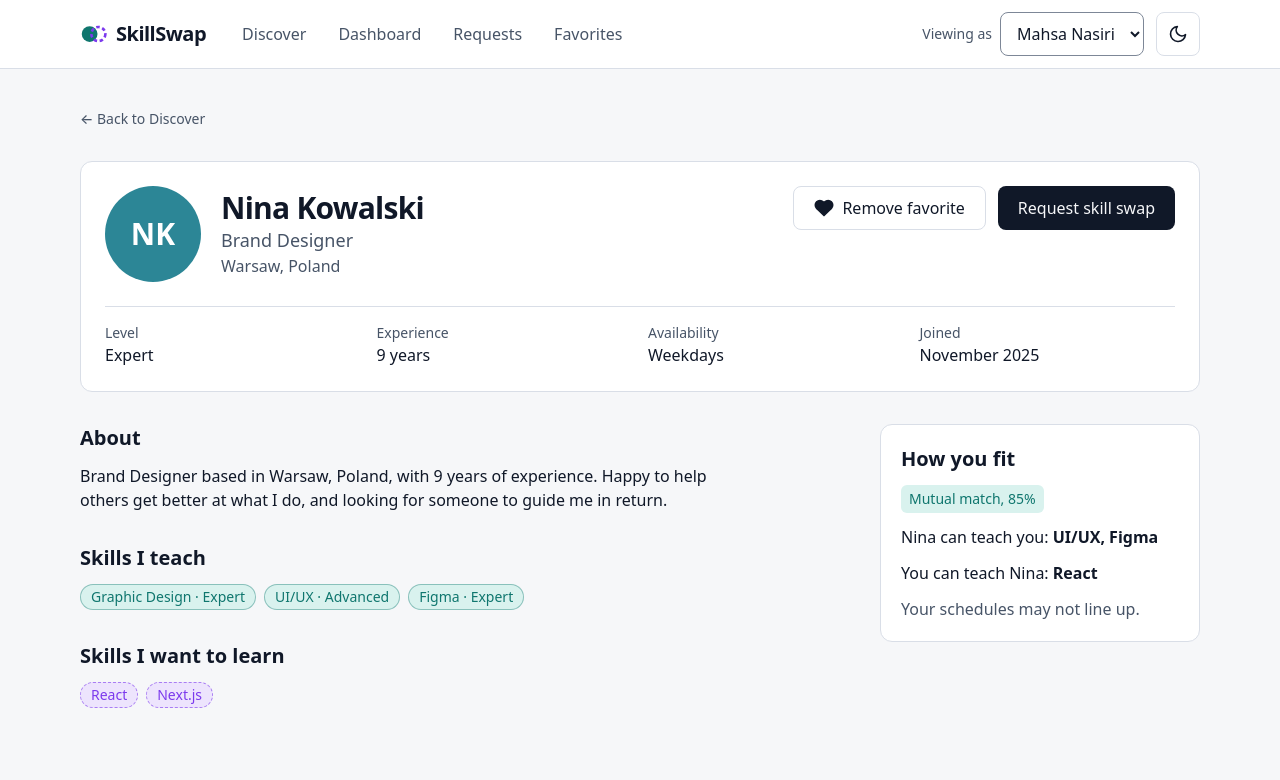
Test: audit: profile with the request form open and errors showing › has exactly one main area, one h1 and a working skip link
The width and height of the screenshot is (1280, 780).
Click the button "Request skill swap": [1086, 208] box [998,186,1175,230]
(page scrolled)
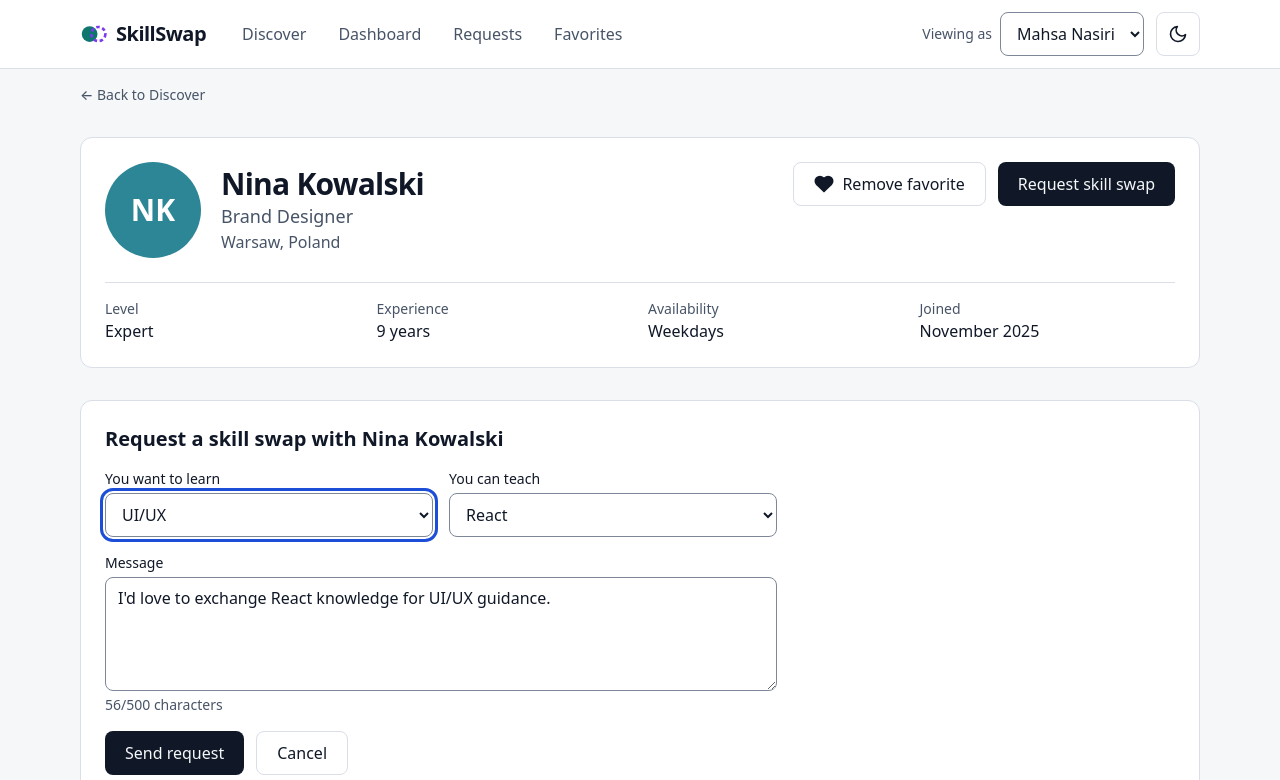
Clear the text box labelled "Message": [441, 634] box [105,577,777,691]
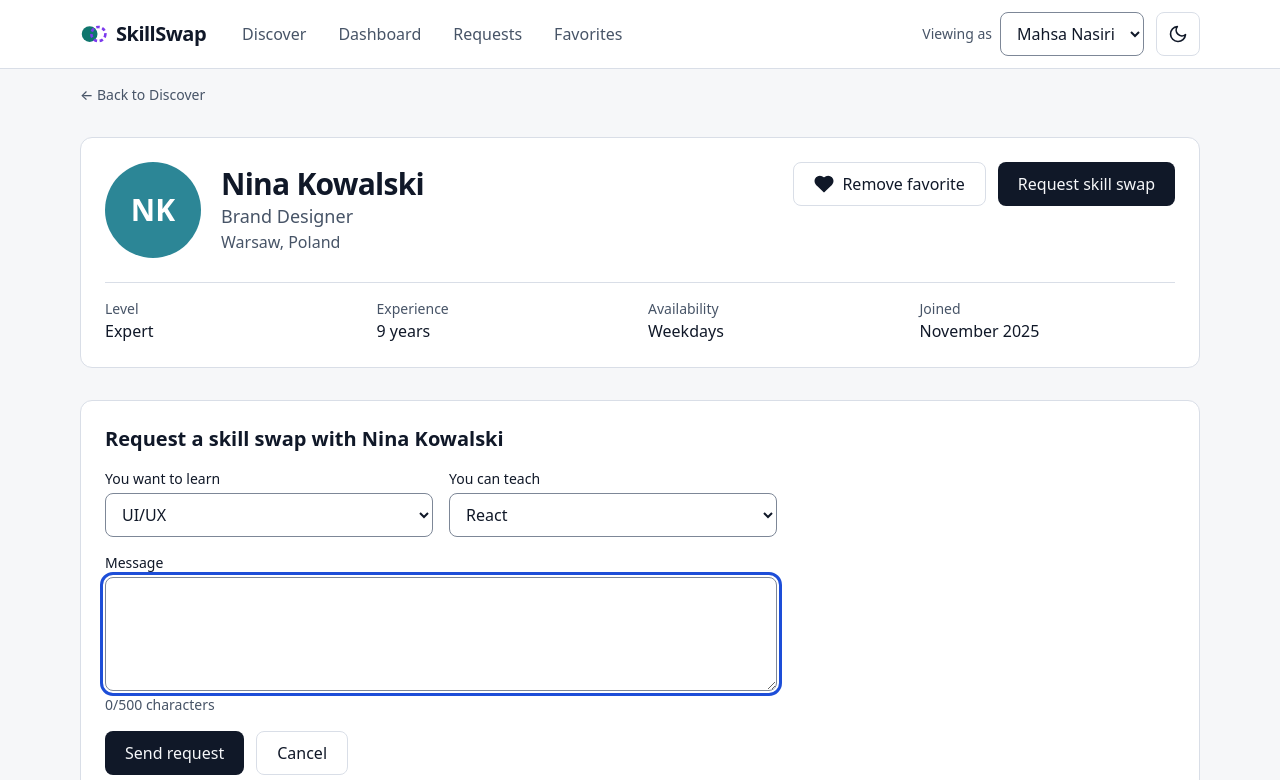
Click the button "Send request": [175, 753] box [105,731,244,775]
(page scrolled)
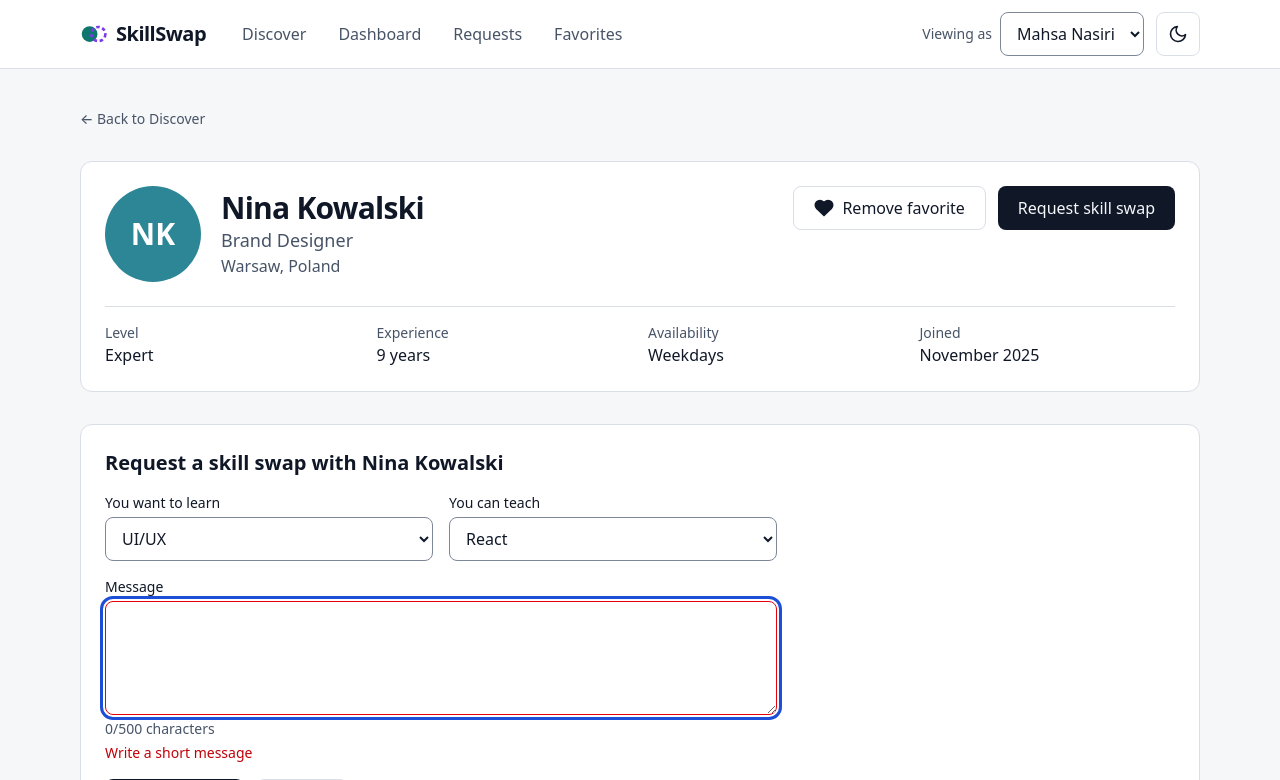
Expected: the text "Write a short message" is shown, [105,743,252,762]
